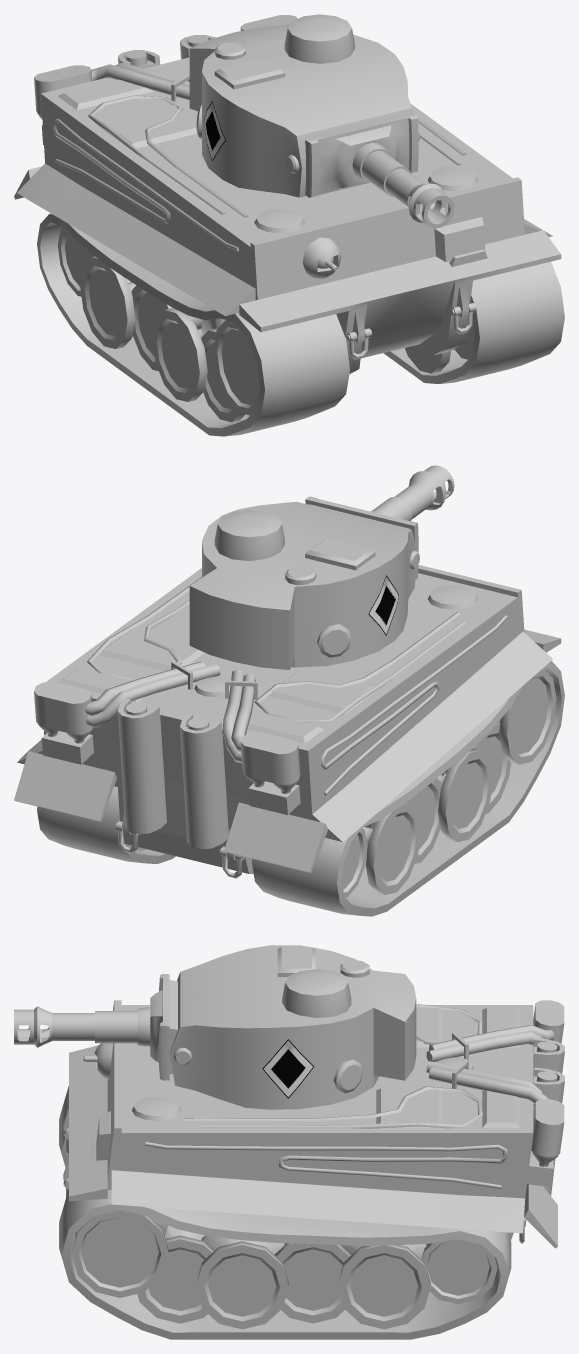
Rendered from MediumTank02.FBX.
The picture shows the model from 3 angles, top to bottom: view 1: azimuth 30°, elevation 25°; view 2: azimuth 150°, elevation 25°; view 3: azimuth 270°, elevation 25°; orthographic projection.
Visible parts, largest first — view 1: MediumTank02_Chassis, MediumTank02_Turret, MediumTank02_Track_Right, MediumTank02_Track_Left, MediumTank02_Cannon, MediumTank02_Wheel_Right_03, MediumTank02_Wheel_Right_05, MediumTank02_Wheel_Right_01, MediumTank02_Wheel_Right_04, MediumTank02_Wheel_Right_02, MediumTank02_Wheel_Right_06, MediumTank02_Wheel_Left_02 (+1 smaller); view 2: MediumTank02_Chassis, MediumTank02_Turret, MediumTank02_Track_Right, MediumTank02_Wheel_Right_03, MediumTank02_Wheel_Right_05, MediumTank02_Wheel_Right_01, MediumTank02_Track_Left, MediumTank02_Cannon, MediumTank02_Wheel_Right_04, MediumTank02_Wheel_Right_02, MediumTank02_Wheel_Right_06, MediumTank02_Symbol; view 3: MediumTank02_Chassis, MediumTank02_Turret, MediumTank02_Track_Left, MediumTank02_Wheel_Left_03, MediumTank02_Wheel_Left_01, MediumTank02_Cannon, MediumTank02_Wheel_Left_05, MediumTank02_Wheel_Left_04, MediumTank02_Wheel_Left_02, MediumTank02_Wheel_Left_06, MediumTank02_Symbol.
Boxes of the visible parts, x1,y1,x2,y2 form: MediumTank02_Chassis: (14,15,561,374); MediumTank02_Turret: (189,14,419,197); MediumTank02_Track_Right: (37,213,349,436); MediumTank02_Track_Left: (383,261,564,383); MediumTank02_Cannon: (305,113,454,228); MediumTank02_Wheel_Right_03: (152,308,225,401); MediumTank02_Wheel_Right_05: (80,256,136,348); MediumTank02_Wheel_Right_01: (213,320,259,415); MediumTank02_Wheel_Right_04: (131,285,202,371); MediumTank02_Wheel_Right_02: (201,328,244,422); MediumTank02_Wheel_Right_06: (58,227,94,296); MediumTank02_Wheel_Left_02: (405,344,450,373); MediumTank02_Chassis: (14,565,561,878); MediumTank02_Turret: (189,501,419,669); MediumTank02_Track_Right: (252,661,564,916); MediumTank02_Wheel_Right_03: (437,748,493,842); MediumTank02_Wheel_Right_05: (363,802,420,894); MediumTank02_Wheel_Right_01: (497,669,556,764); MediumTank02_Track_Left: (37,786,175,863); MediumTank02_Cannon: (305,465,454,579); MediumTank02_Wheel_Right_04: (371,778,441,864); MediumTank02_Wheel_Right_02: (443,723,510,813); MediumTank02_Wheel_Right_06: (342,828,367,897); MediumTank02_Symbol: (368,575,398,635); MediumTank02_Chassis: (63,1000,564,1248); MediumTank02_Turret: (170,945,416,1109); MediumTank02_Track_Left: (59,1188,511,1339); MediumTank02_Wheel_Left_03: (195,1235,288,1329); MediumTank02_Wheel_Left_01: (71,1210,168,1297); MediumTank02_Cannon: (14,973,177,1080); MediumTank02_Wheel_Left_05: (337,1244,430,1329); MediumTank02_Wheel_Left_04: (274,1243,351,1323); MediumTank02_Wheel_Left_02: (137,1225,213,1323); MediumTank02_Wheel_Left_06: (421,1239,497,1304); MediumTank02_Symbol: (262,1039,314,1098).
Bounding box in the file's own units: 3.82 × 3.48 × 5.66.
